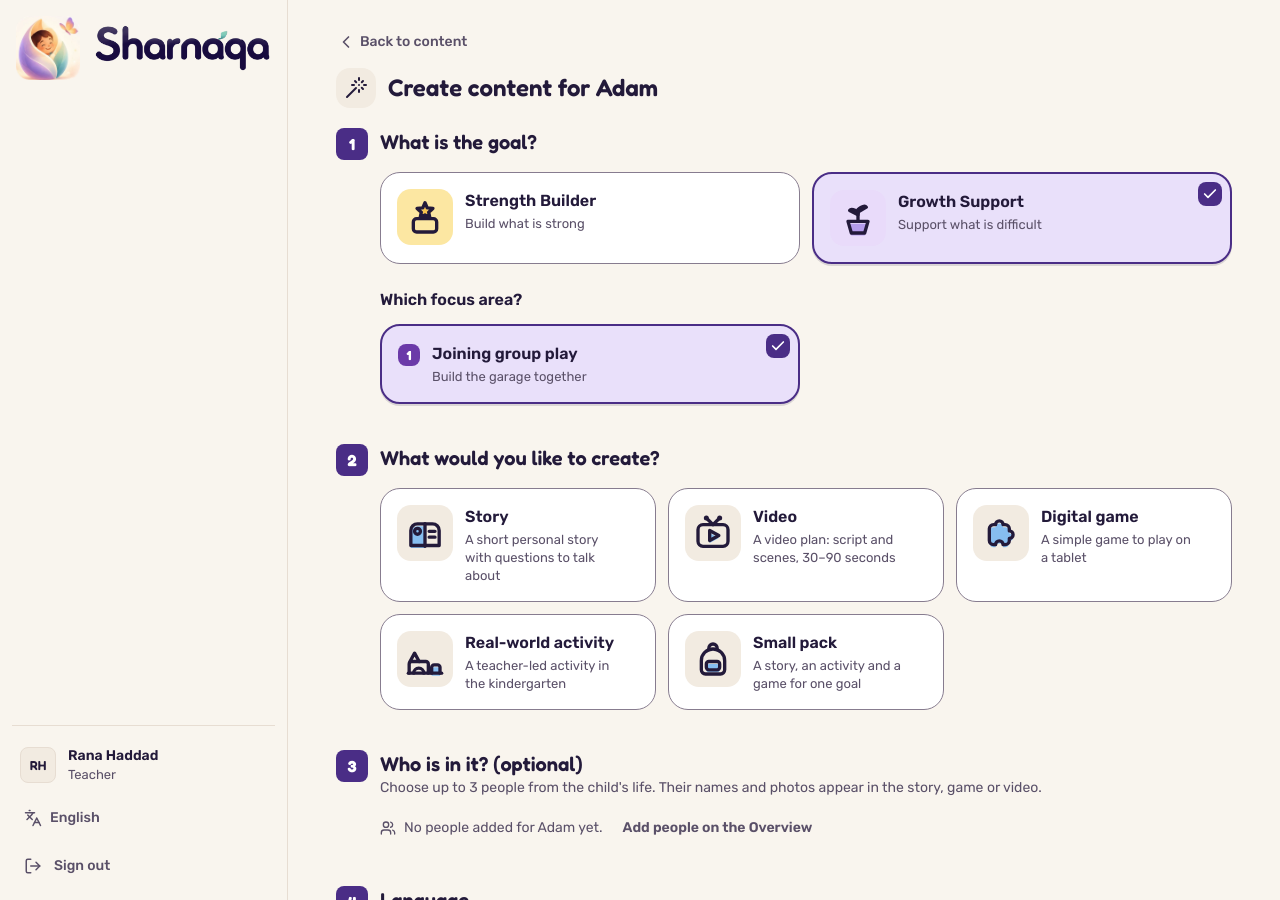
CreateContentPage › growth support: the focus from the link, a type, then a draft to review
Check: the text "Create content for Adam" is shown, box [388,73,658,102]
Click the button with test id "type-real_world_activity": (518,662) [380,614,656,710]
(page scrolled)
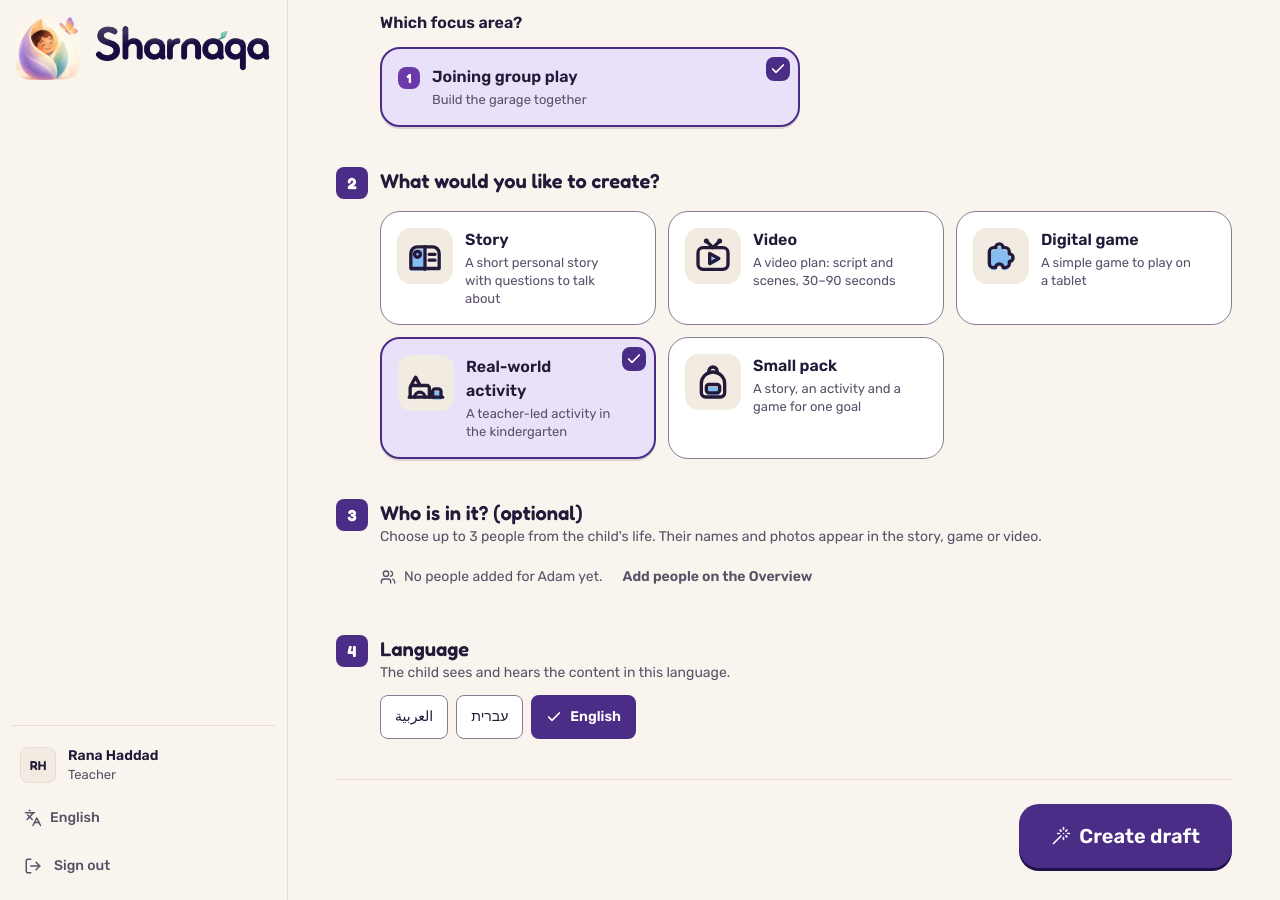
Click the button "Create draft": (1126,836) [1019,804,1232,868]
(page scrolled)
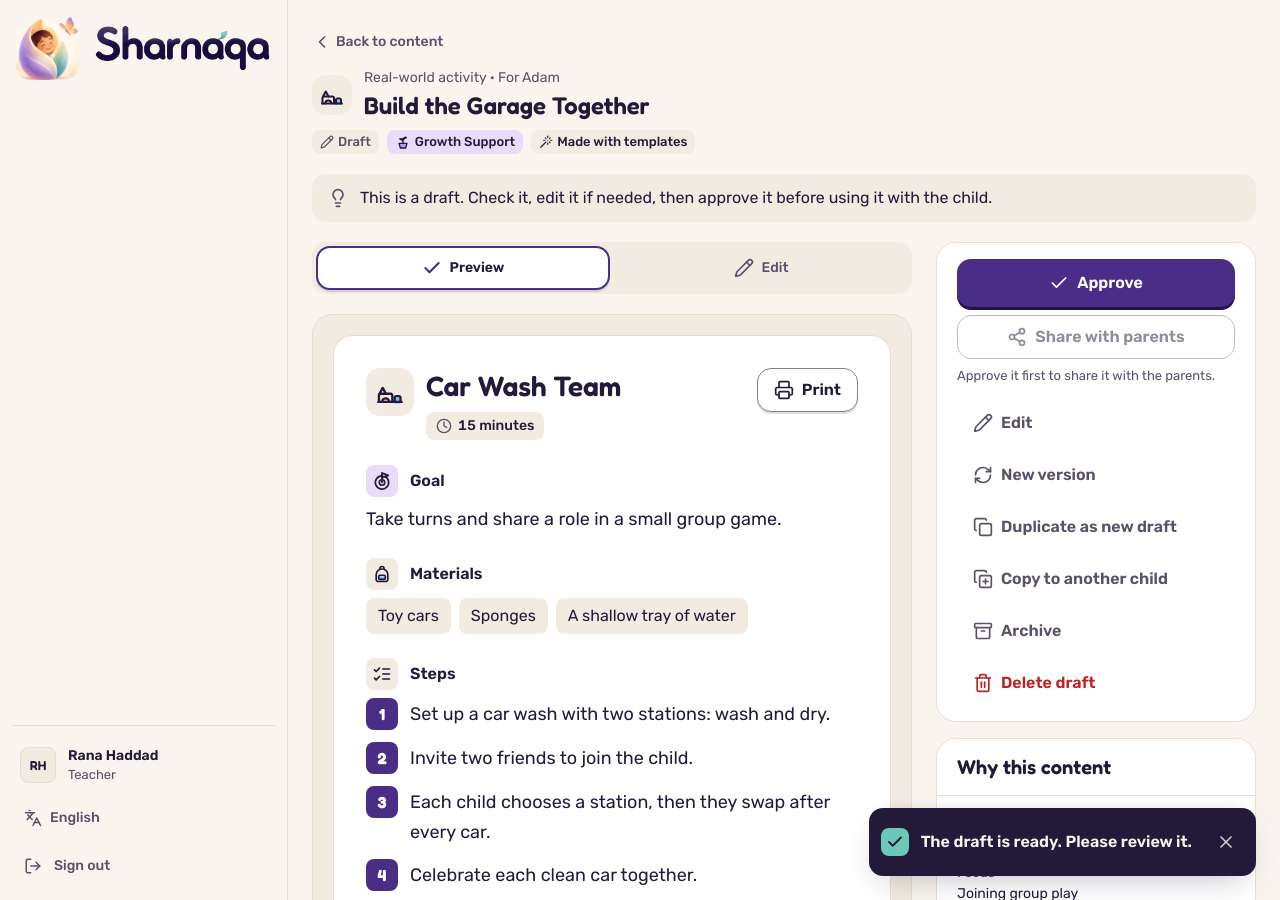
Check: the heading "Build the Garage Together" is shown, box [364,90,650,122]
Check: the text with test id "template-badge" reads "Made with templates", box [557,134,688,149]
